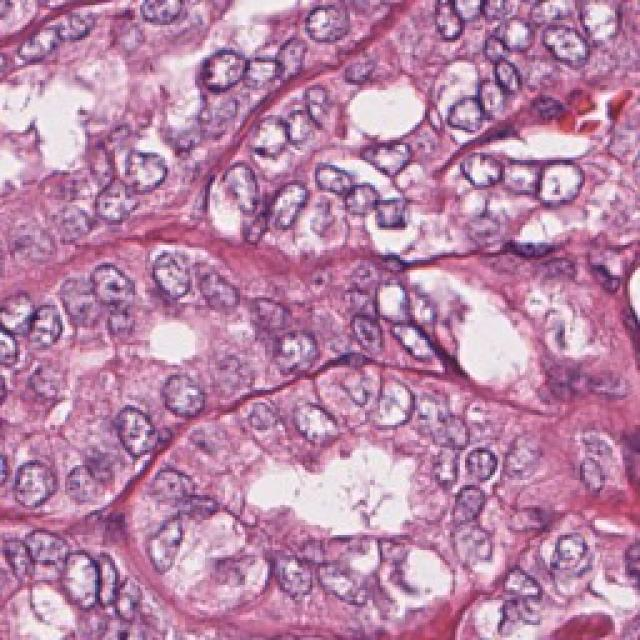abnormal: (518, 139, 616, 241), (89, 385, 182, 486), (49, 524, 128, 637), (2, 264, 75, 379), (0, 420, 72, 532), (462, 132, 551, 216), (439, 481, 511, 584), (351, 362, 433, 452), (145, 351, 230, 437), (533, 509, 610, 603), (203, 136, 269, 231), (89, 118, 164, 201), (529, 2, 603, 86), (189, 27, 259, 115), (282, 0, 370, 68), (353, 114, 420, 196), (84, 243, 148, 328), (145, 505, 194, 599)
